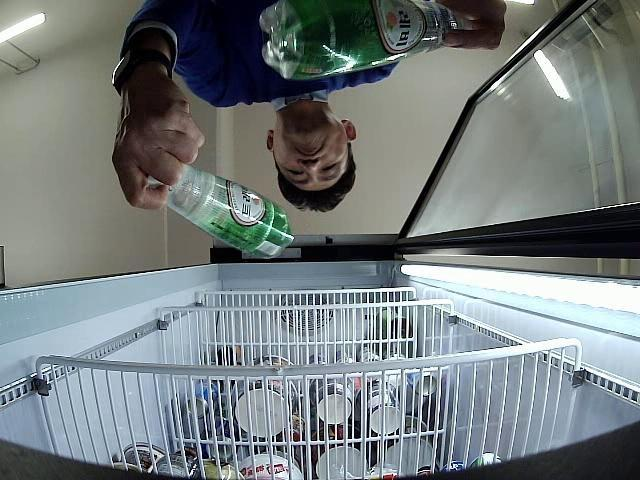18_trevi: (259, 0, 471, 80), (148, 163, 294, 260)
